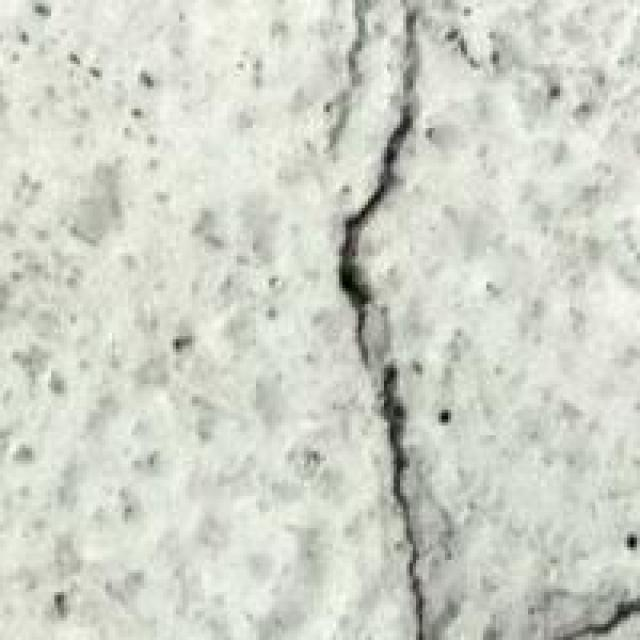Crack: (288, 0, 480, 637)
